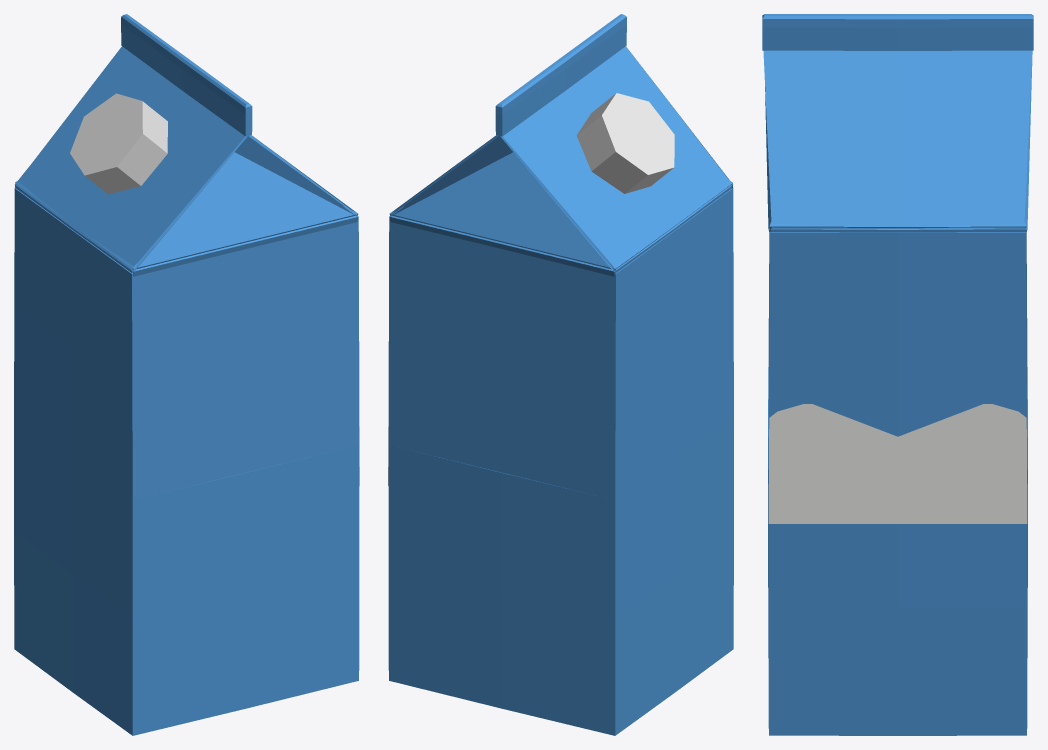
The model's file is milk.glb.
3 renders of one model, left to right at view 1: azimuth 30°, elevation 25°; view 2: azimuth 150°, elevation 25°; view 3: azimuth 270°, elevation 25°, orthographic. The views are drawn at different scales.
Visible parts, largest first — view 1: Cube, Circle; view 2: Cube, Circle; view 3: Cube, Cube.002.
Boxes of the visible parts, left/top/right/bottom form: Cube: left=14, top=14, right=359, bottom=735; Circle: left=70, top=93, right=167, bottom=194; Cube: left=388, top=14, right=733, bottom=735; Circle: left=576, top=93, right=674, bottom=193; Cube: left=762, top=14, right=1033, bottom=735; Cube.002: left=768, top=404, right=1027, bottom=523.
Size of the model in its own units: 2.03 by 5.17 by 1.92.
